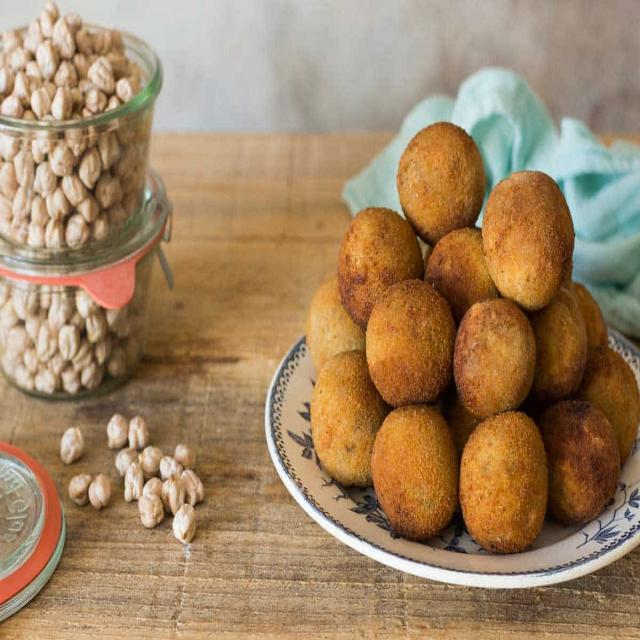garbanzos: (2, 8, 157, 152)
